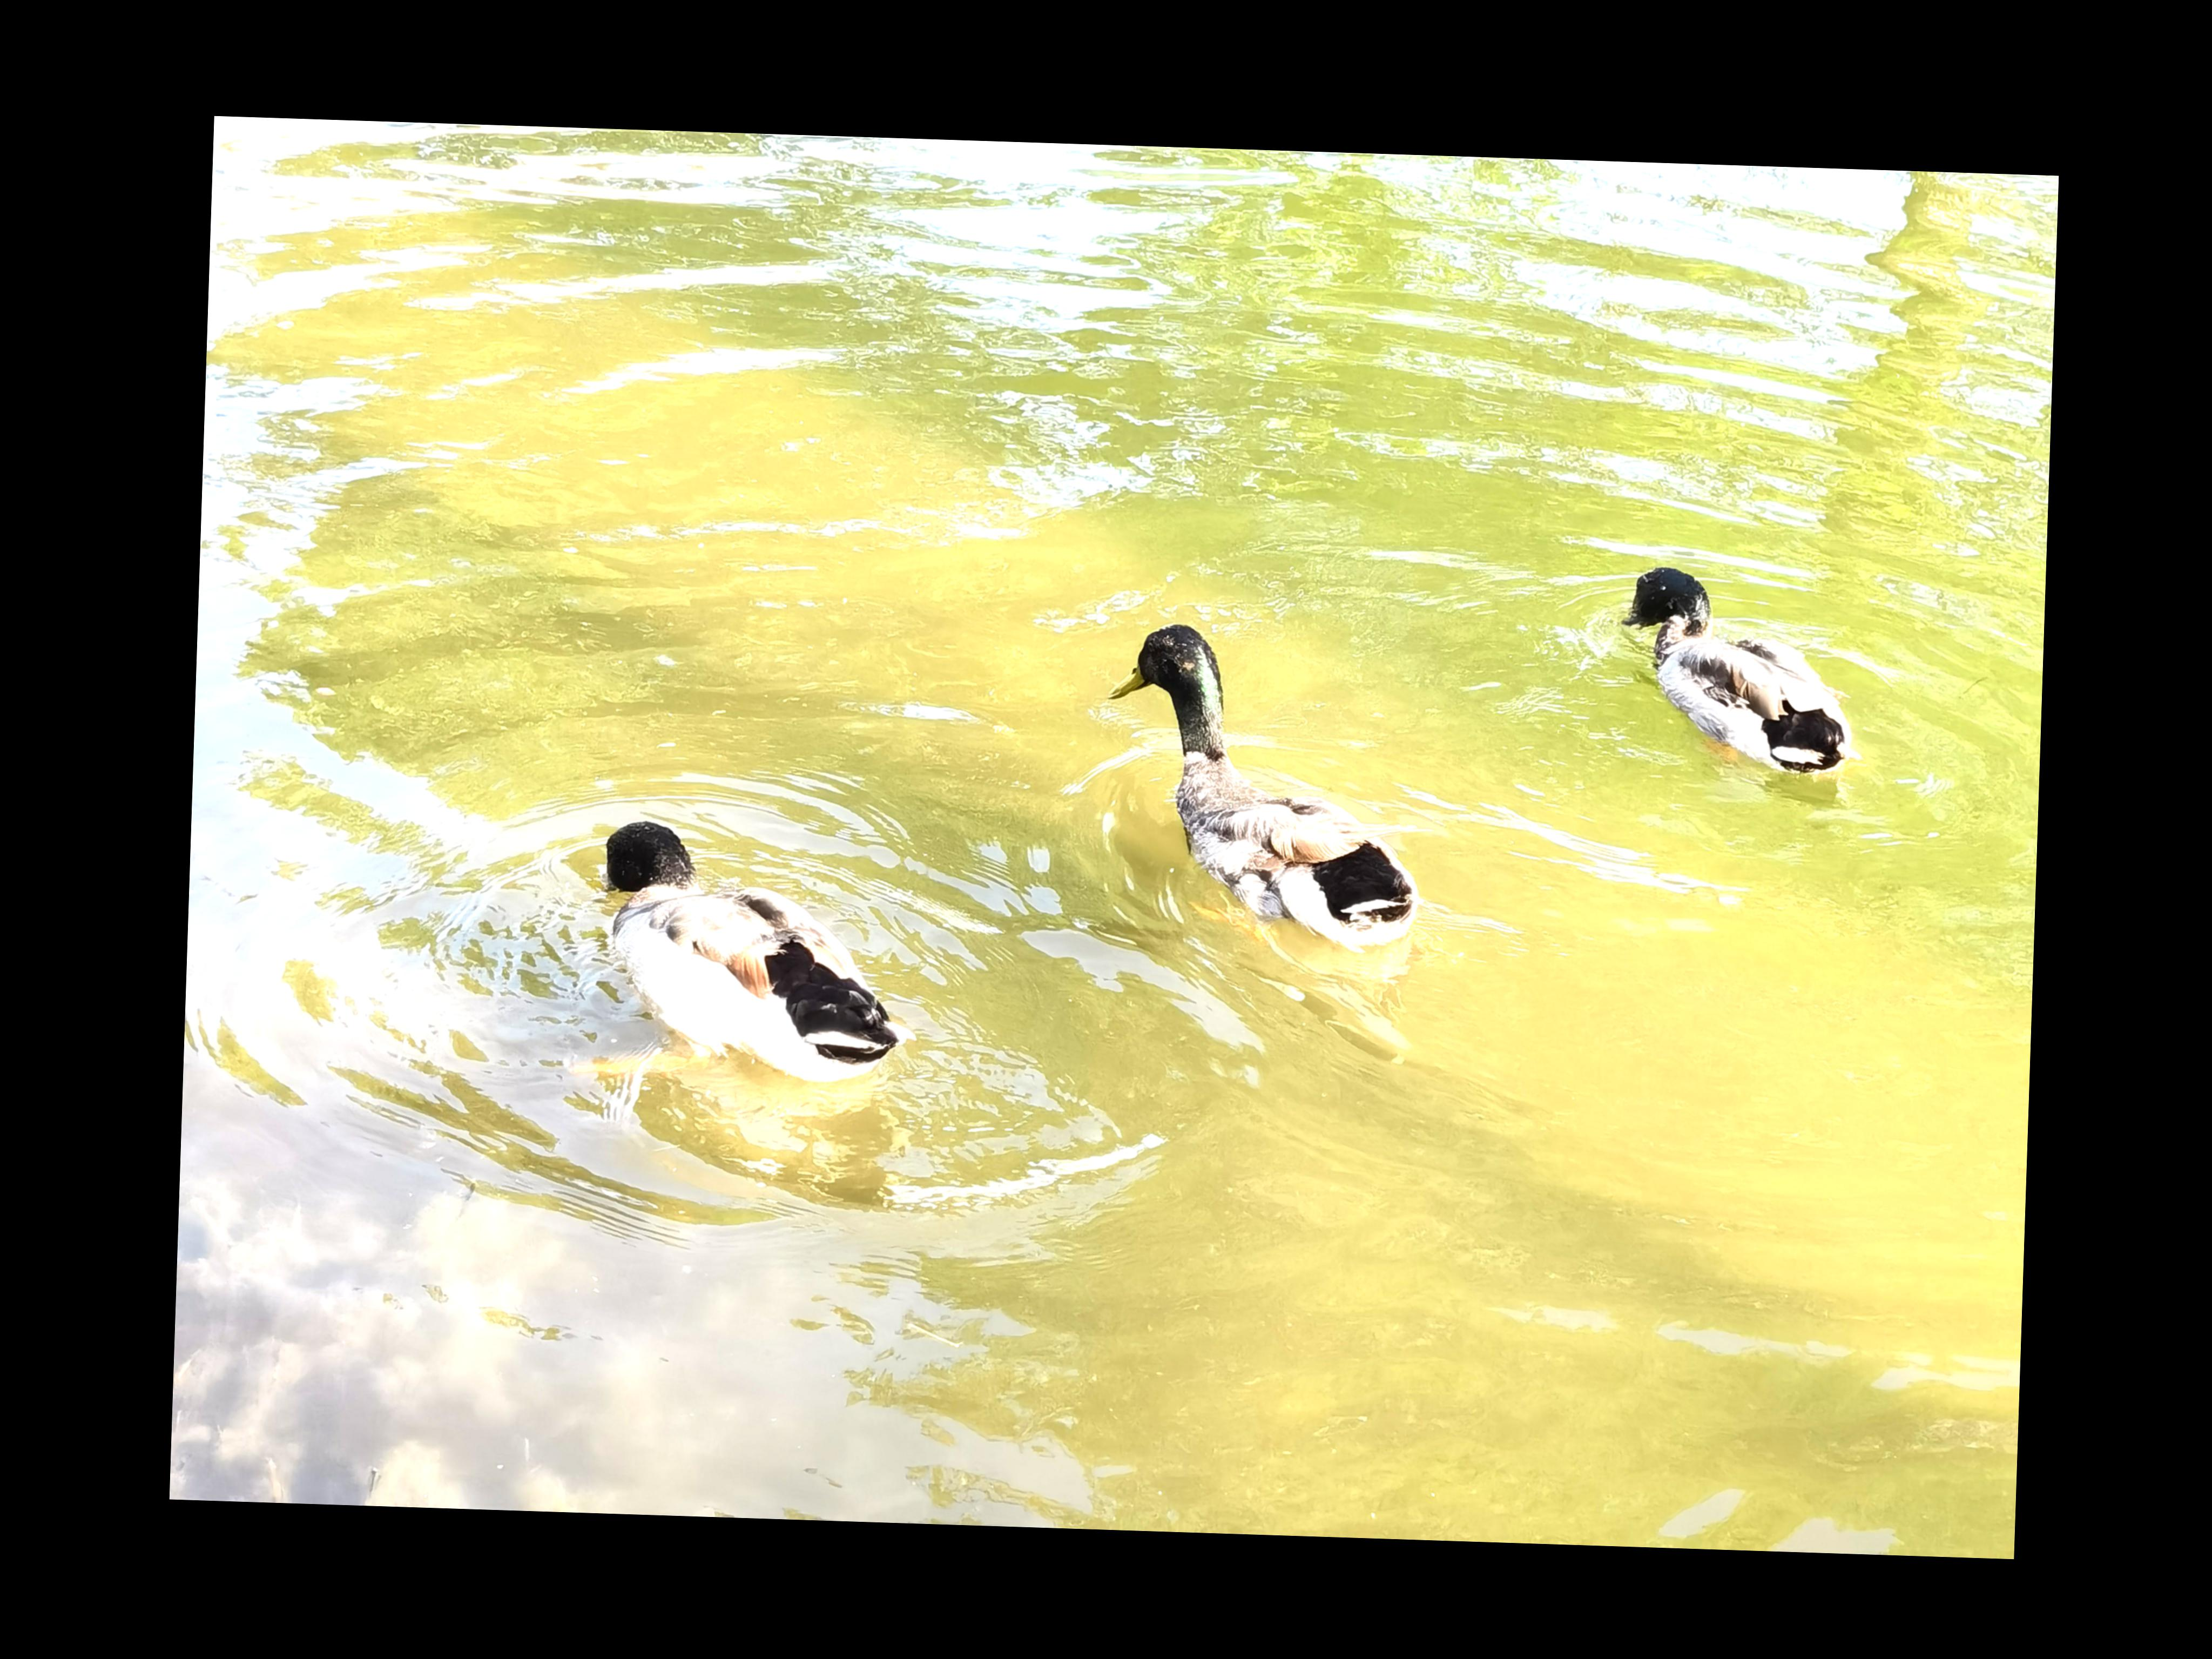duck: (1073, 610, 1479, 1009), (526, 795, 963, 1150), (1606, 556, 1883, 814)
